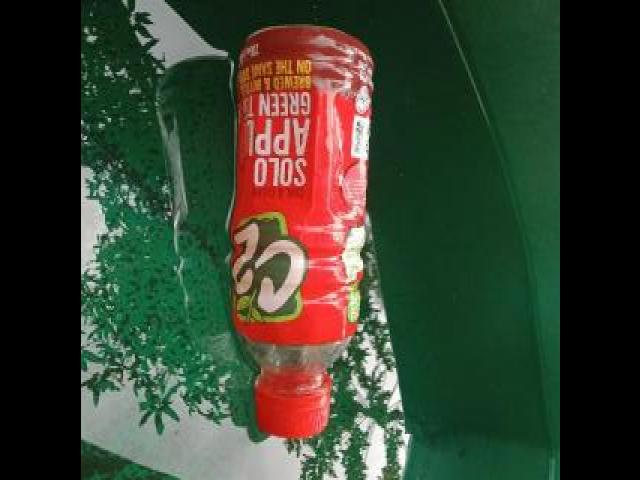Bottle: (219, 14, 381, 447)
